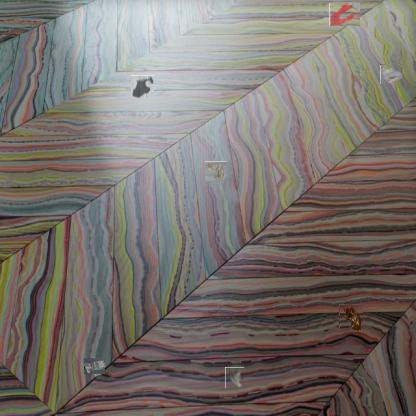dirty: (339, 304, 363, 332), (206, 161, 227, 183), (380, 64, 403, 84), (225, 367, 244, 388), (85, 357, 104, 376)
liquid: (329, 2, 360, 26), (131, 75, 154, 99)
